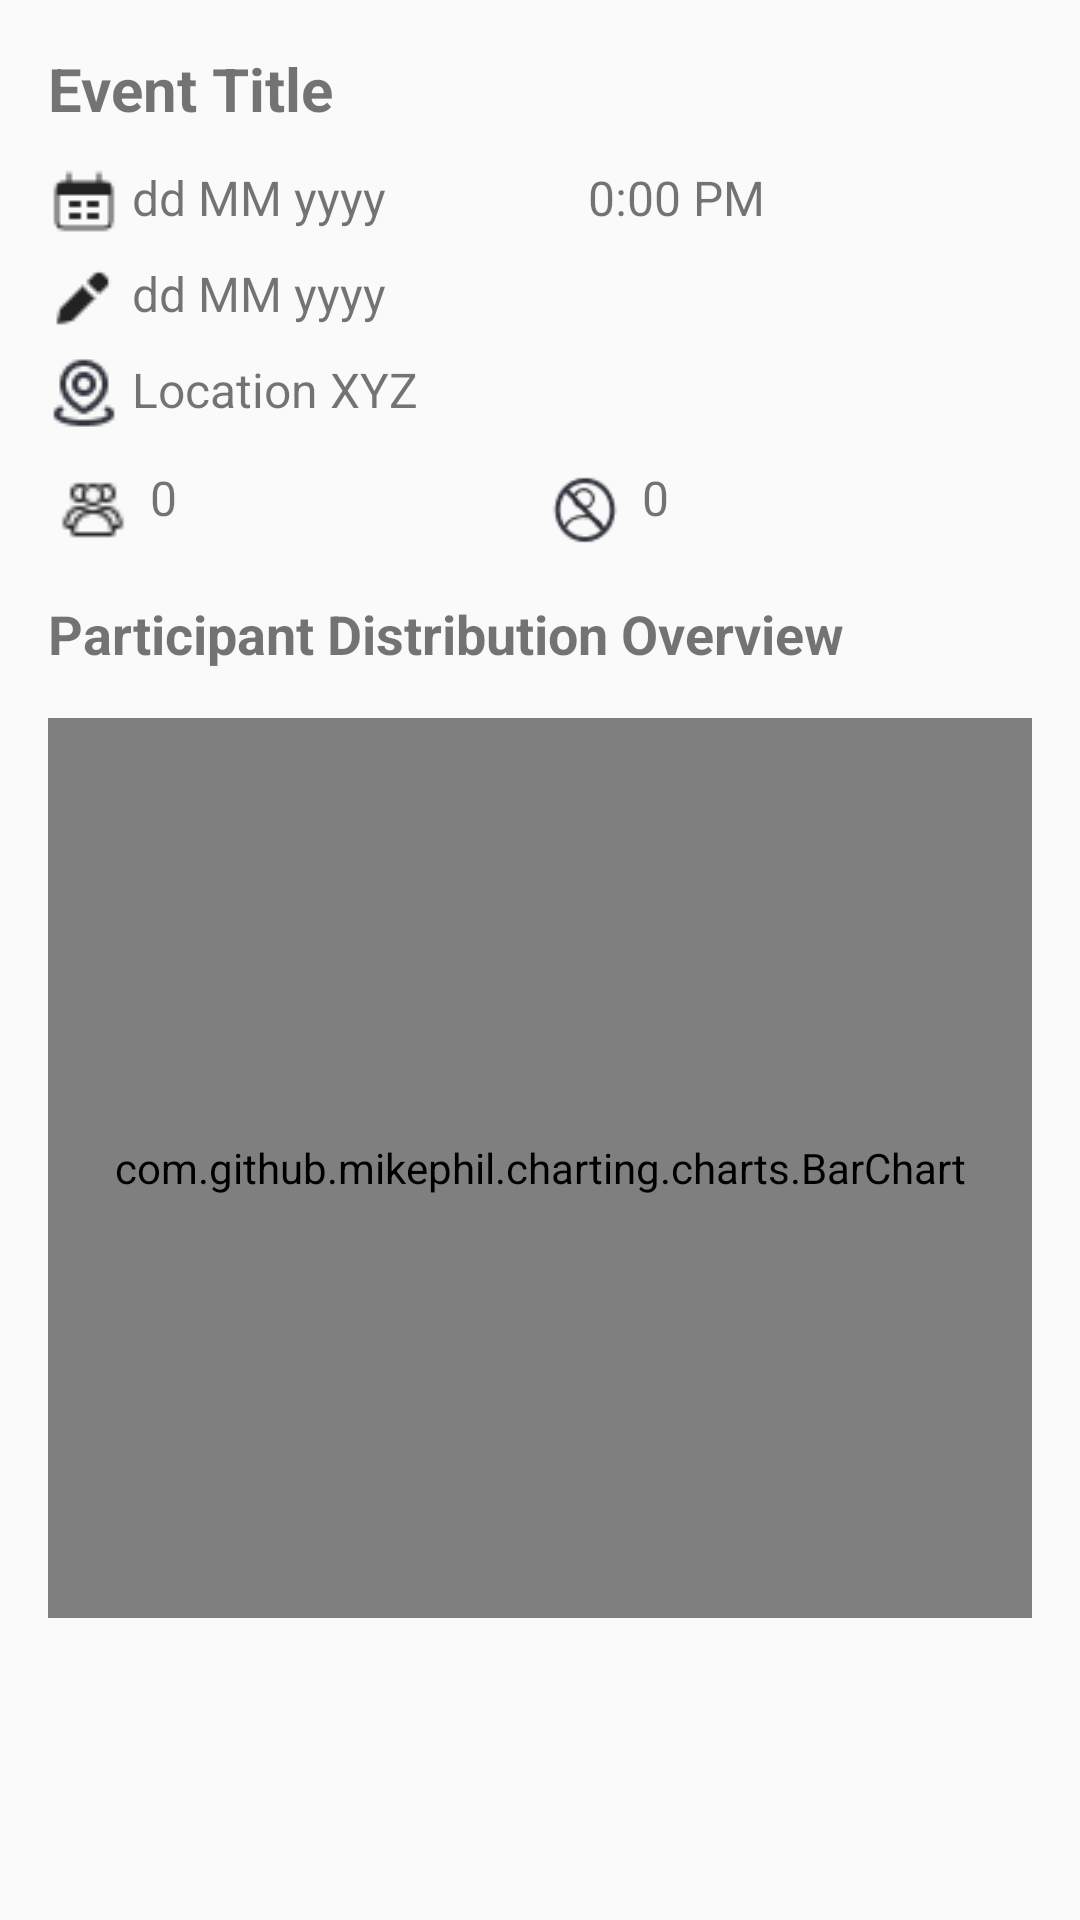

Icon click points for this 1080*1920 phone screenshot, format (x,y):
cancelled: (585,510)
Created Icon: (82,298)
Date Icon: (84,201)
Group Icon: (93,510)
